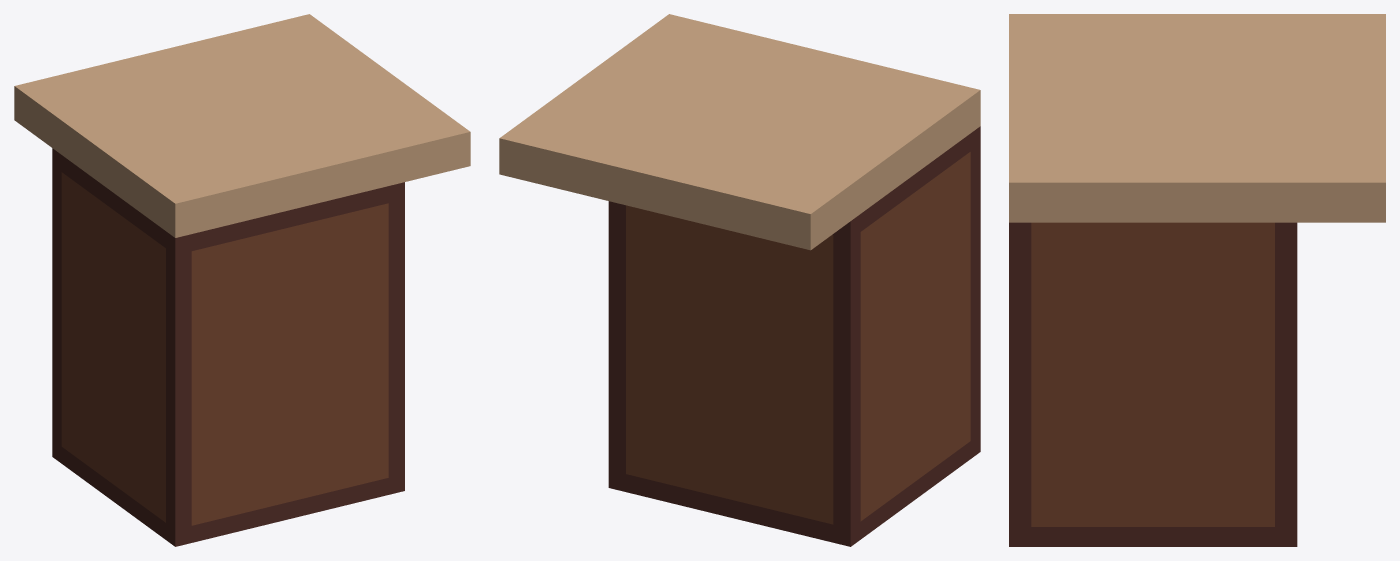
Rendered from bar_corner.gltf.
The picture shows the model from 3 angles, left to right: view 1: azimuth 30°, elevation 25°; view 2: azimuth 150°, elevation 25°; view 3: azimuth 270°, elevation 25°; orthographic projection. The views are drawn at different scales.
Visible parts, largest first — view 1: Layer.1; view 2: Layer.1; view 3: Layer.1.
Boxes of the visible parts, x1,y1,x2,y2 form: Layer.1: (14,14,470,546); Layer.1: (499,14,980,546); Layer.1: (1009,14,1385,546).
Bounding box in the file's own units: 18 × 20 × 17.
